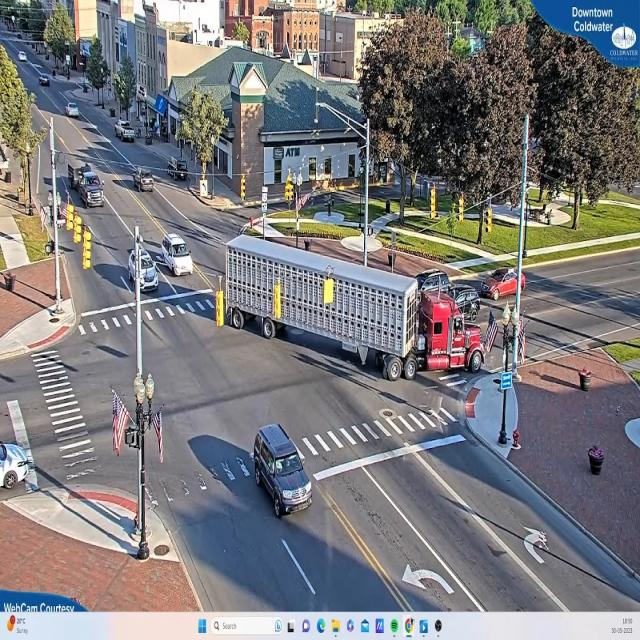car: (252, 423, 314, 518), (0, 443, 39, 491), (126, 244, 158, 295), (160, 233, 194, 279), (482, 270, 528, 303), (116, 122, 137, 143), (84, 184, 103, 207), (65, 102, 79, 118)
truck: (217, 234, 486, 390)
